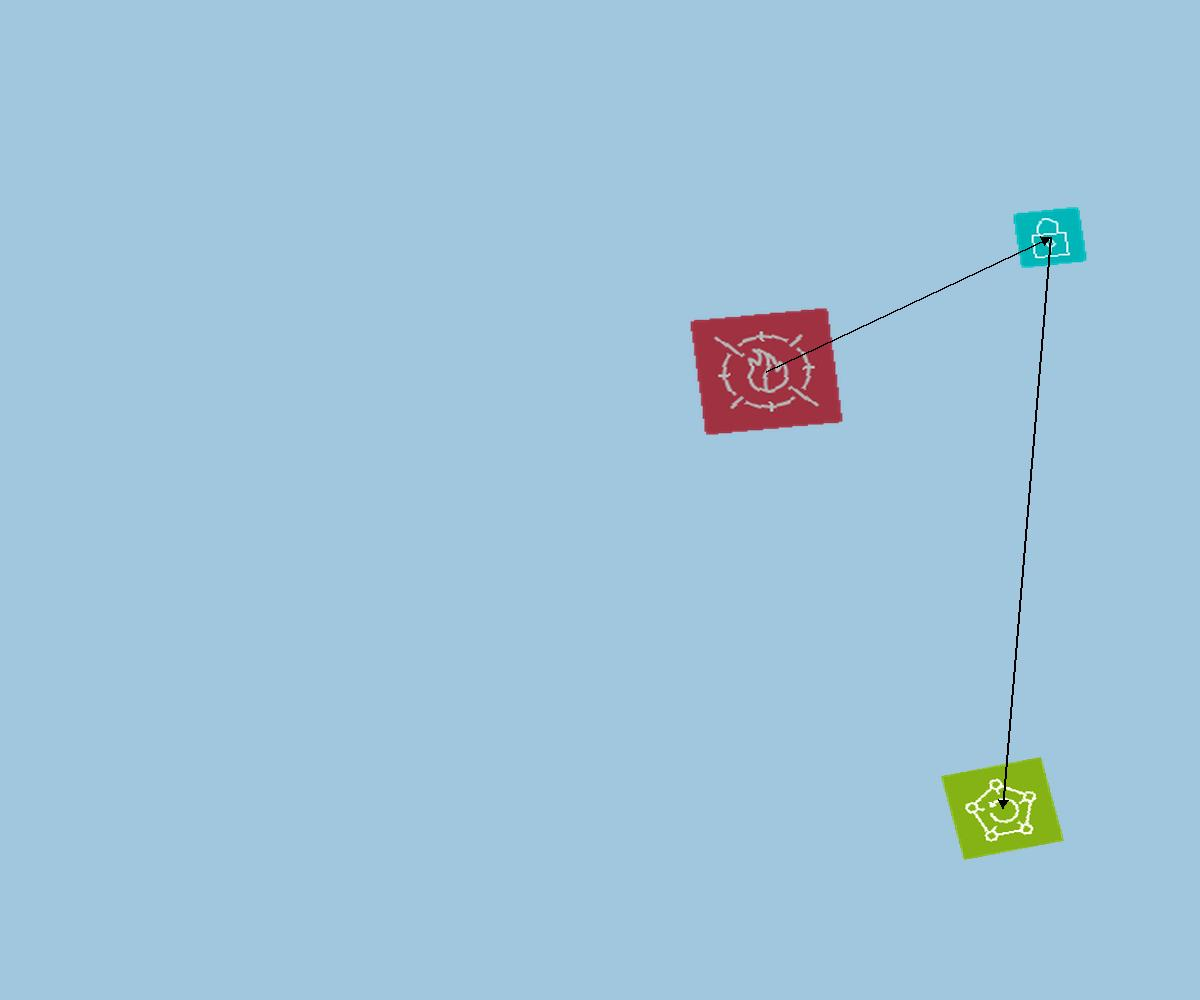AWS-Backup: (941, 757, 1064, 860)
AWS-Private-subnet: (1012, 206, 1088, 269)
AWS-WAF: (689, 307, 844, 436)
